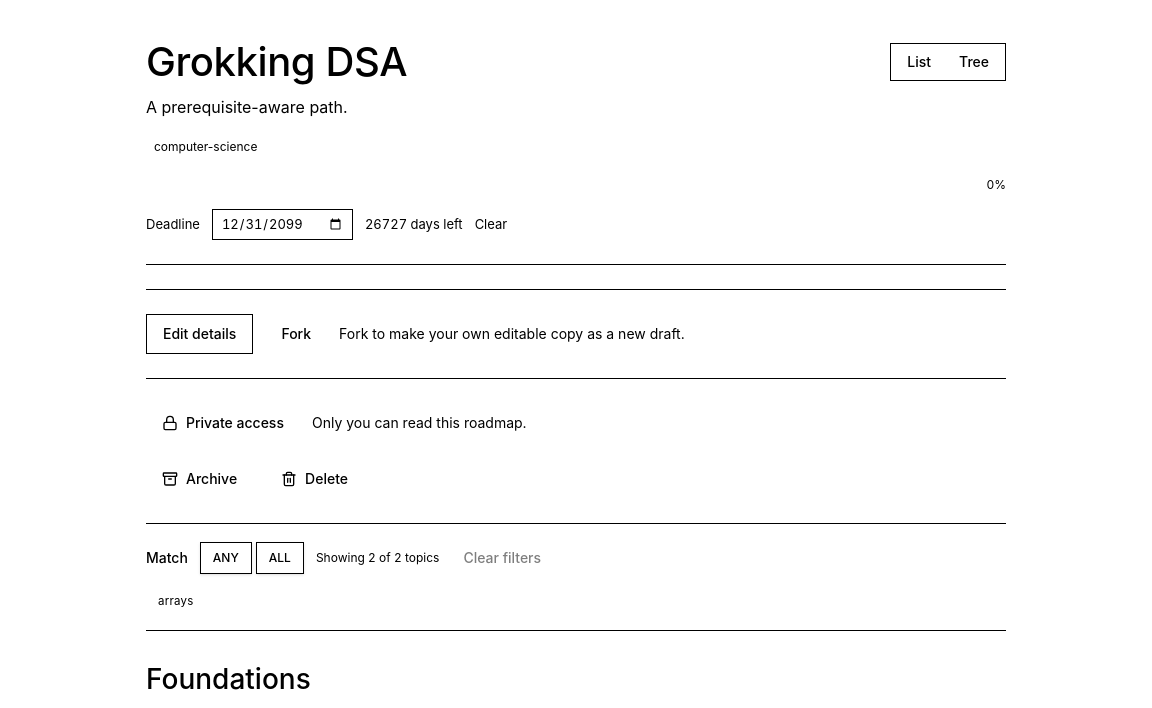
it: RoadmapView deadline countdown › clears the deadline via PUT null when Clear is pressed
Expected: the date field named "Deadline" holds "2099-12-31", x1=212 y1=209 x2=353 y2=240
# Clear only appears once a deadline has hydrated.
Click the button "Clear".
click(491, 224)  # box x1=475 y1=214 x2=507 y2=235
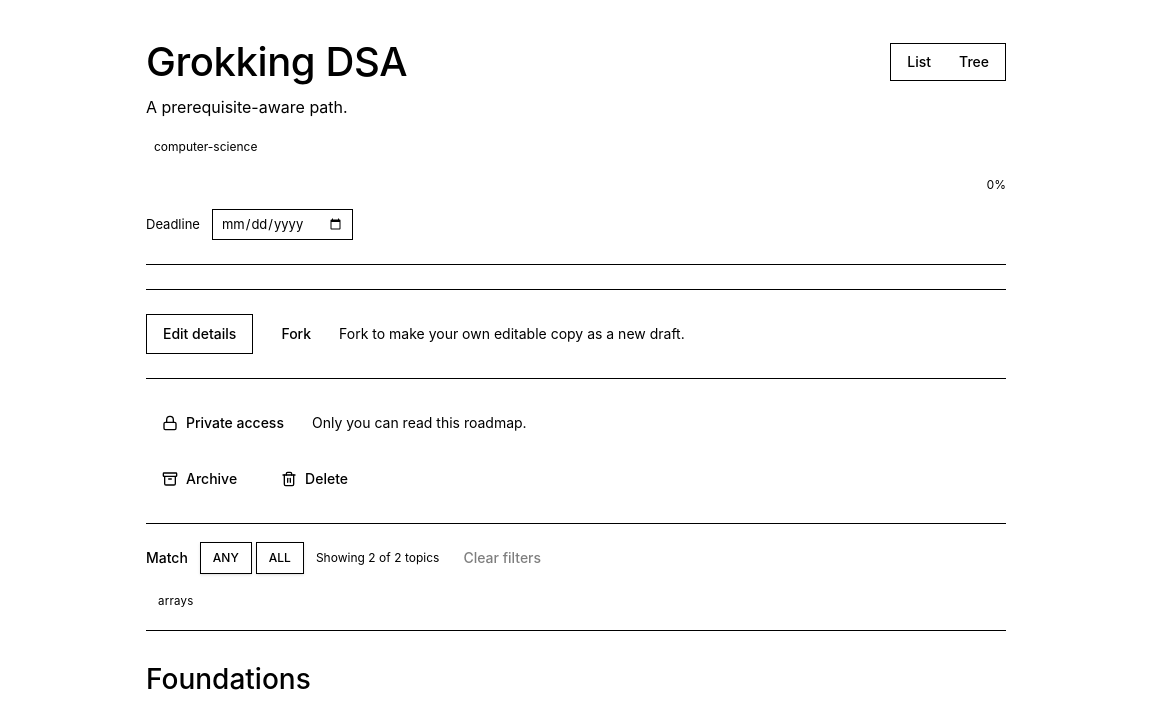
Expected: the date field named "Deadline" is empty, x1=212 y1=209 x2=353 y2=240
